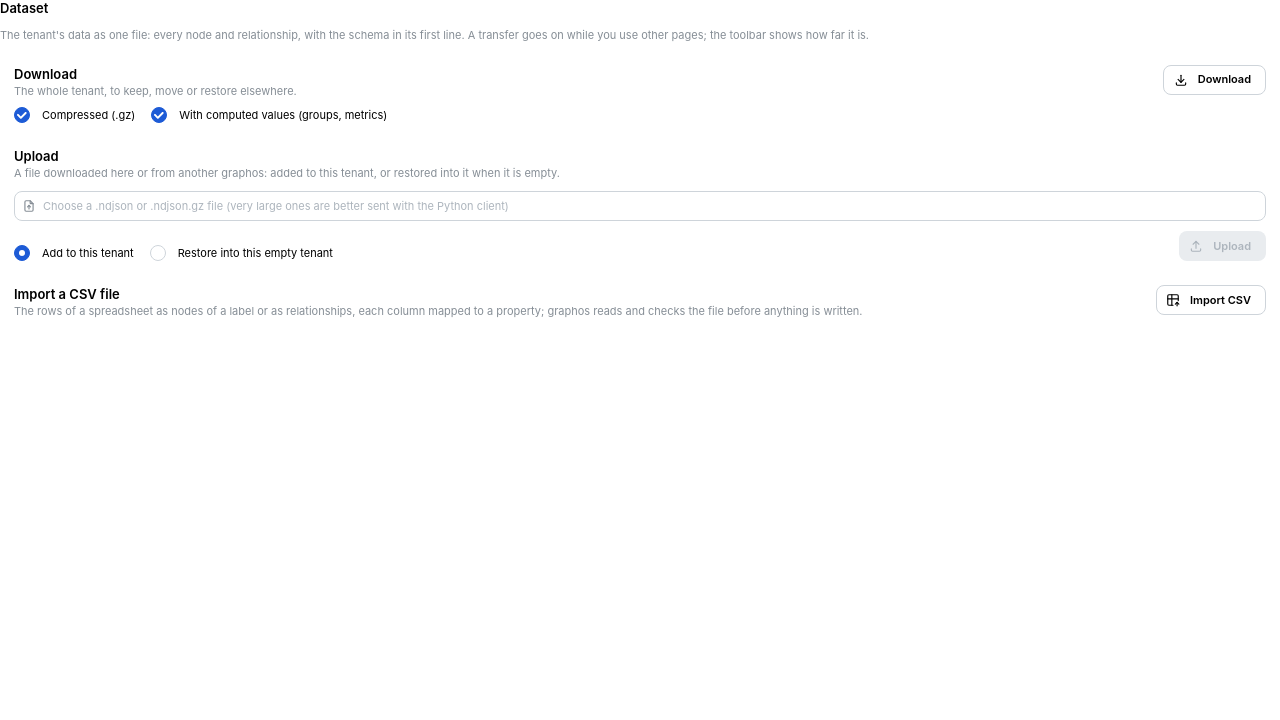
Test: the CSV import › is offered beside the dataset upload to writers only
Click the button "Import CSV". click: coordinates (1211, 300)
box: [1156,285,1266,315]
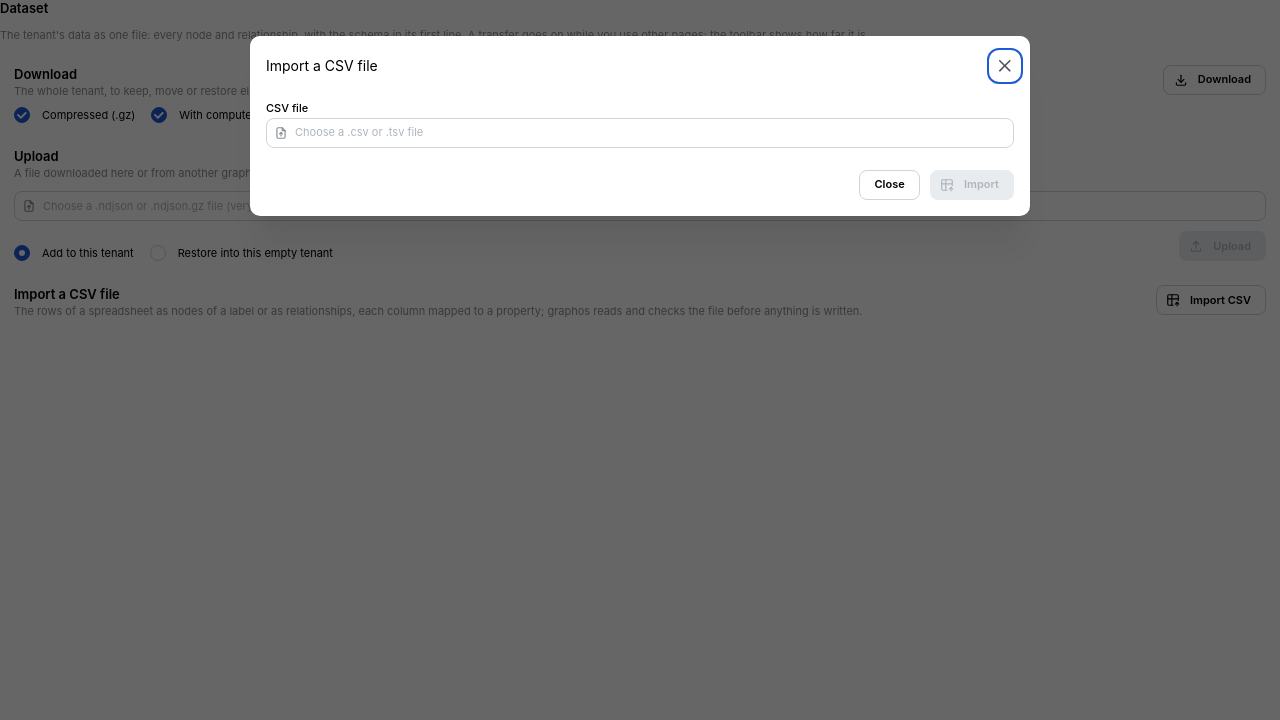
Expected: the button named "CSV file" is shown, [266,118,1014,148]
